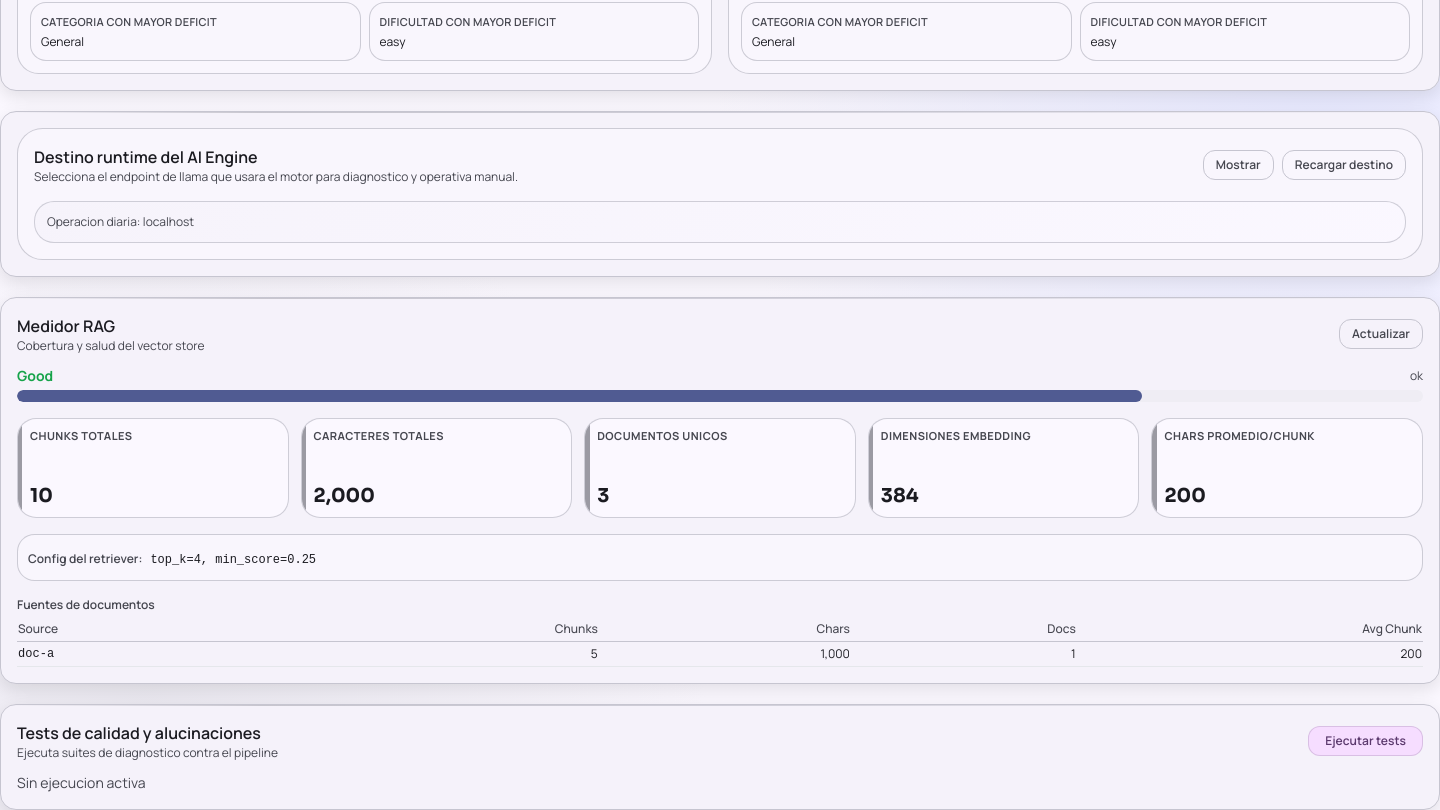
Test: AIDiagnosticsPanel integration › retries polling after transient status failure and renders suite details
(page scrolled)
Expected: the heading "Fuentes de documentos" is shown, [17,596,155,613]
Expected: the text "doc-a" is shown, [17,642,306,666]
Click the button "Ejecutar tests": (1366, 741) [1308,726,1423,756]
(page scrolled)
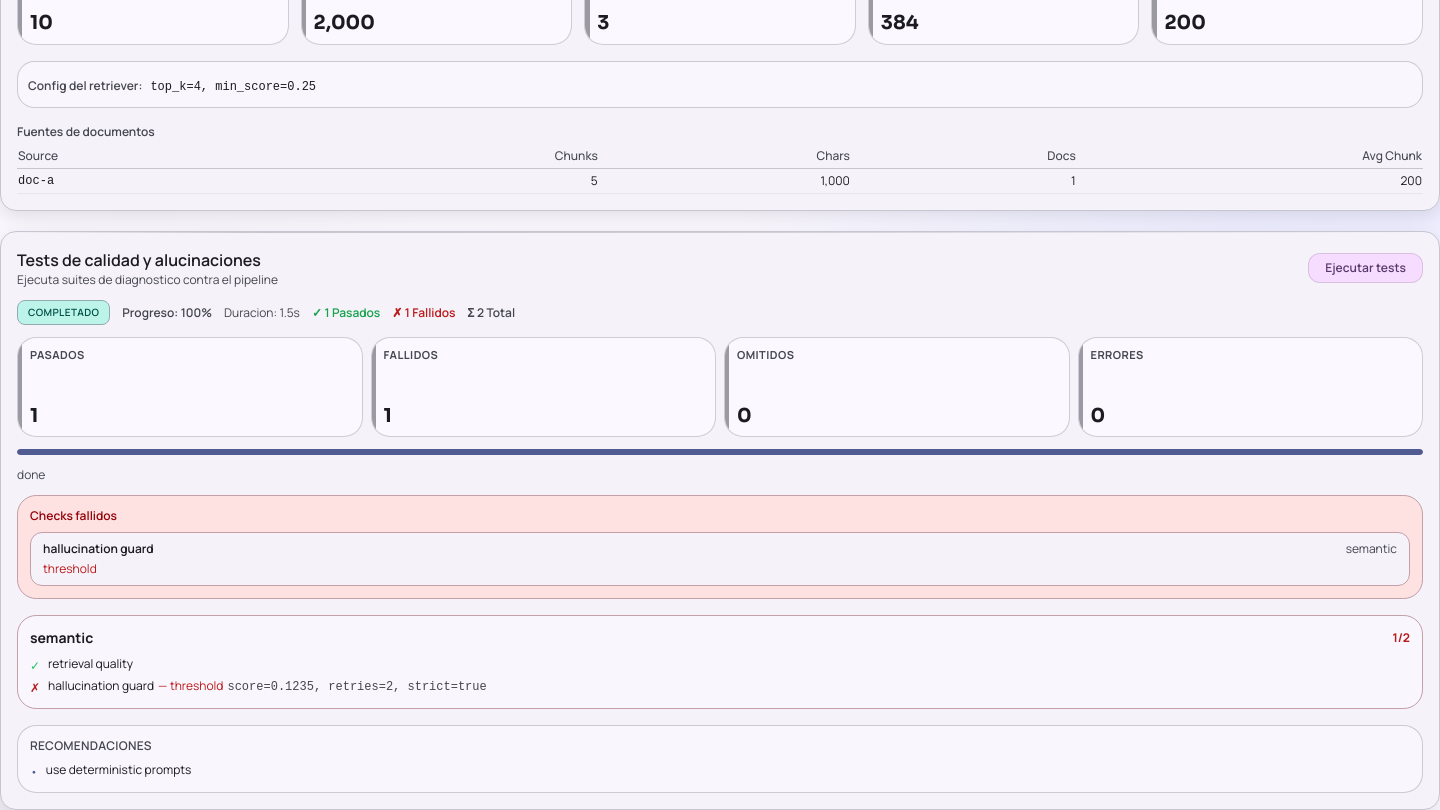
Expected: the text "Completado" is shown, [17,300,110,326]
Expected: the text "Duracion: 1.5s" is shown, [224,305,300,321]
Expected: the text "Omitidos" is shown, [737,348,794,362]
